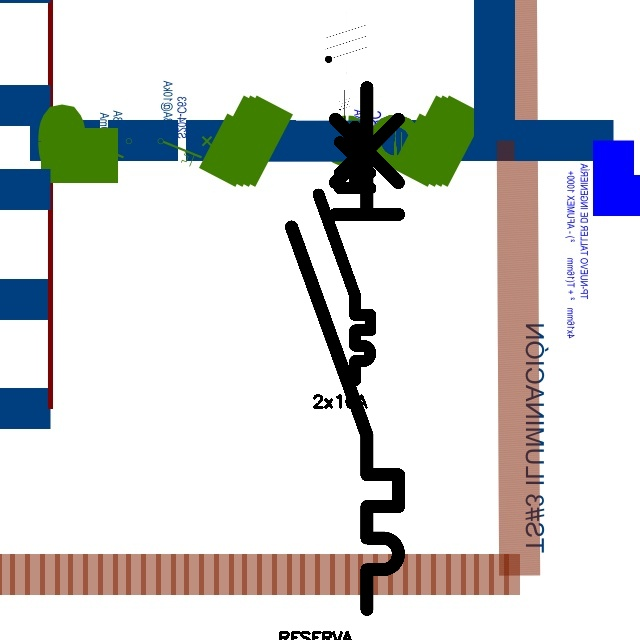interruptor_termomagnetico: (278, 74, 412, 622), (312, 120, 377, 387)
